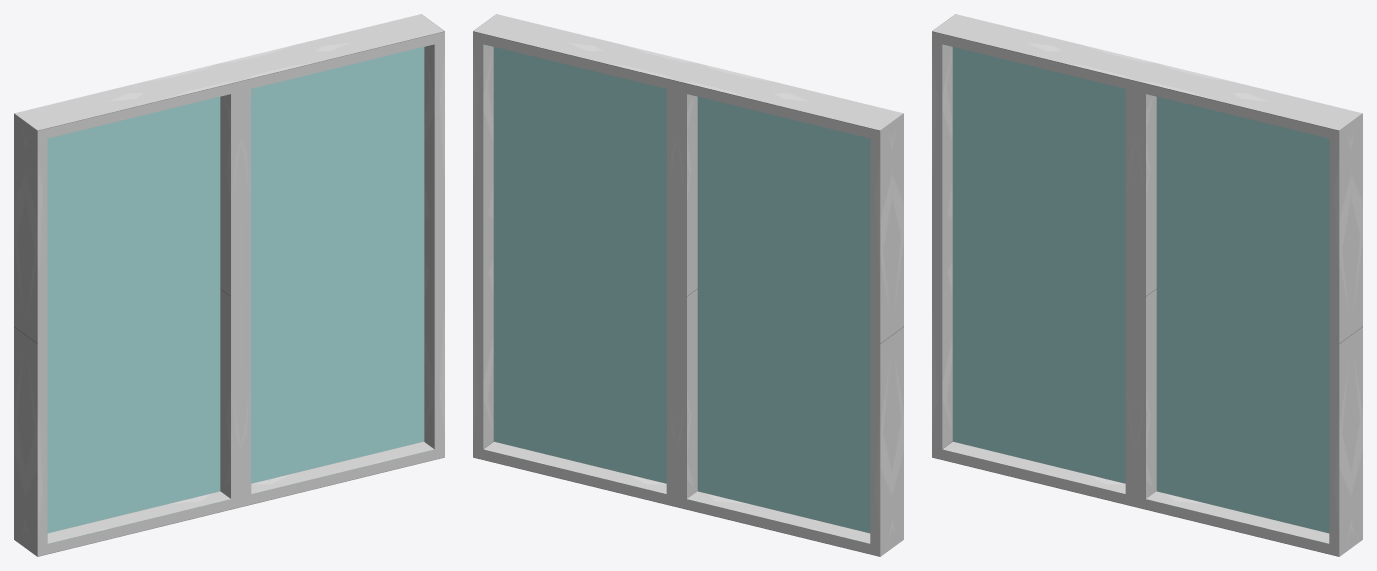
File: door_supermarket.obj
The picture shows the model from 3 angles, left to right: view 1: azimuth 30°, elevation 25°; view 2: azimuth 150°, elevation 25°; view 3: azimuth 330°, elevation 25°; orthographic projection.
Visible parts, largest first — view 1: Cube_Cube.001; view 2: Cube_Cube.001; view 3: Cube_Cube.001.
Part boxes in pixels (x1,y1,x2,y2): Cube_Cube.001: (14,14,444,556); Cube_Cube.001: (473,14,903,556); Cube_Cube.001: (932,14,1362,556).
Bounding box in the file's own units: 2 × 2 × 0.2.
